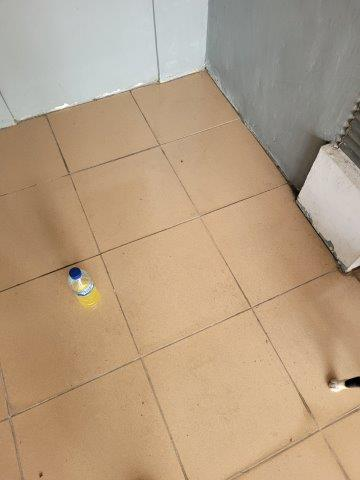botolplastik: (69, 268, 102, 306)
